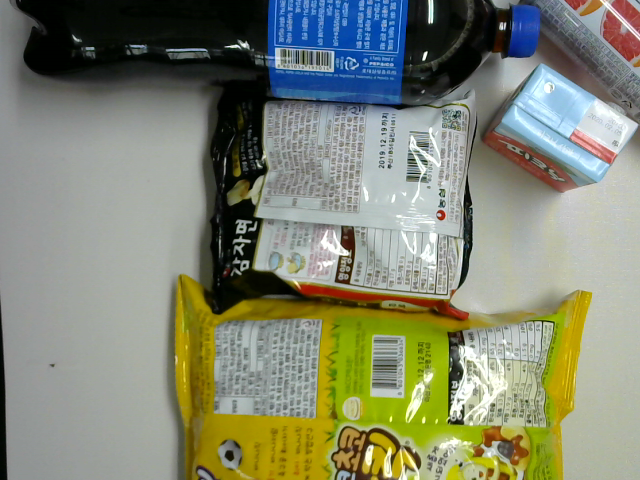Banana_Kick: (167, 271, 595, 480)
Demisoda_Grapefruit_Can_250ml: (516, 1, 640, 131)
Pepsi_Cola_1.5L: (7, 1, 544, 110)
Picnic_Apple: (481, 62, 640, 197)
Potato: (204, 81, 482, 313)
